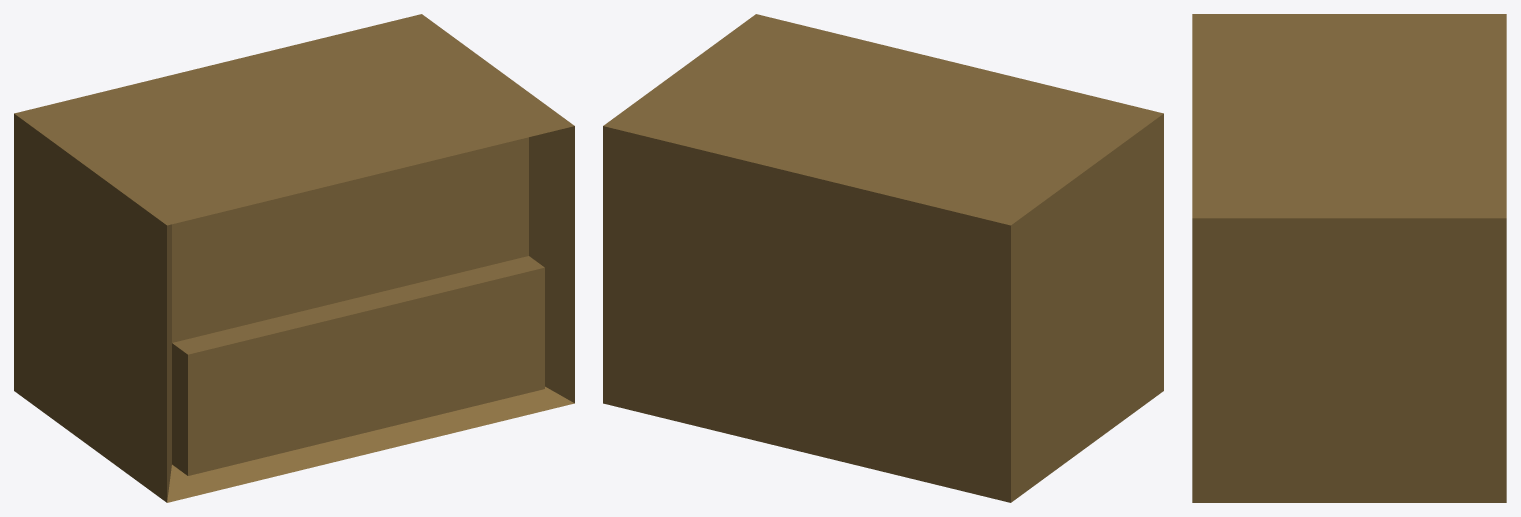
Rendered from Velador.fbx.
3 renders of one model, left to right at view 1: azimuth 30°, elevation 25°; view 2: azimuth 150°, elevation 25°; view 3: azimuth 270°, elevation 25°, orthographic. The views are drawn at different scales.
Visible parts, largest first — view 1: Cube.006; view 2: Cube.006; view 3: Cube.006.
Part boxes in pixels (<box>): Cube.006: <box>14,14,574,502</box>; Cube.006: <box>603,14,1163,502</box>; Cube.006: <box>1192,14,1506,502</box>.
Size of the model in its own units: 308 by 200 by 200.
